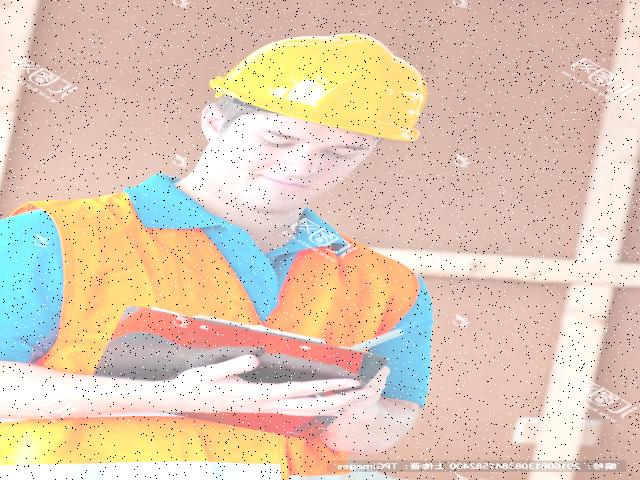Helmet: (203, 28, 433, 147)
